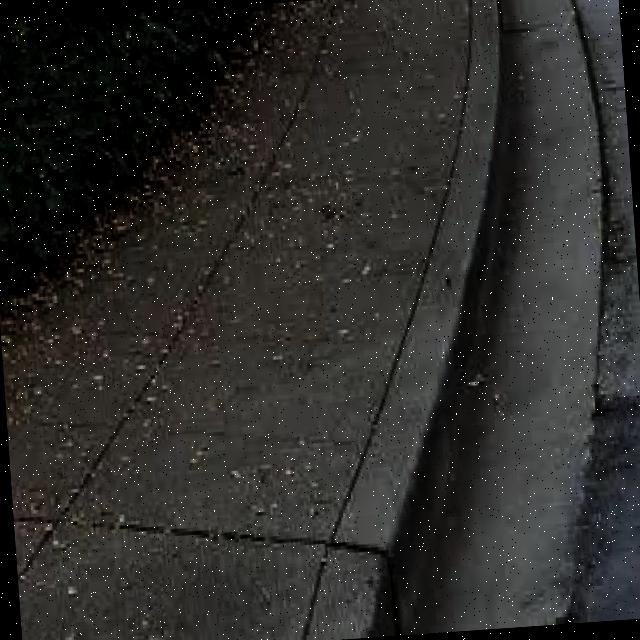curb: (299, 1, 512, 640)
